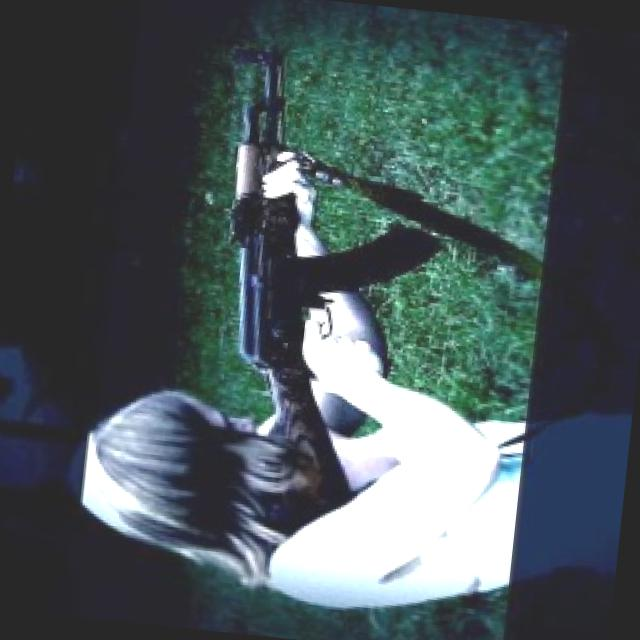long weapon: (200, 19, 412, 410)
